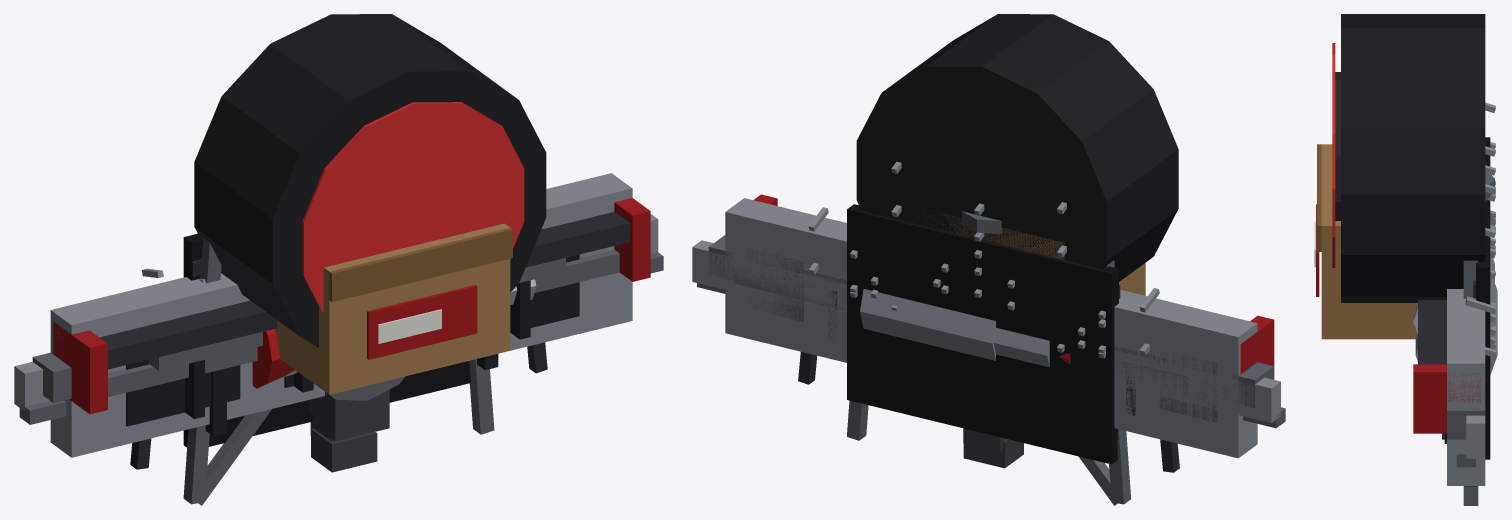
The model's file is wall_items.glb.
3 views of the same model, side by side, from view 1: azimuth 30°, elevation 25°; view 2: azimuth 150°, elevation 25°; view 3: azimuth 270°, elevation 25° (orthographic). The views are drawn at different scales.
Visible parts, largest first — view 1: dragradial, bushings, body_bumper_F_sport, comforttire, body_spoiler_gt_wing, rollcage, body_bumper_F_lip, lightweight, turbokit, body_skirt_skirt, body_bumper_R_diffuser, body_spoiler_roof_ext (+3 smaller); view 2: comforttire, lightweight, body_bumper_F_sport, dragradial, body_skirt_skirt, catback, strutbar, rollcage, body_bumper_F_lip, bushings, coilover, body_spoiler_gt_wing (+4 smaller); view 3: comforttire, dragradial, bushings, body_bumper_F_sport, body_spoiler_gt_wing, lightweight, body_skirt_skirt, body_bumper_F_lip, rollcage, catback, coilover.
Boxes of the visible parts, x1=… form: dragradial: x1=221, y1=14, x2=546, y2=347; bushings: x1=274, y1=223, x2=512, y2=394; body_bumper_F_sport: x1=50, y1=173, x2=632, y2=457; comforttire: x1=194, y1=14, x2=496, y2=294; body_spoiler_gt_wing: x1=53, y1=198, x2=650, y2=436; rollcage: x1=183, y1=237, x2=494, y2=505; body_bumper_F_lip: x1=32, y1=249, x2=619, y2=402; lightweight: x1=183, y1=233, x2=470, y2=447; turbokit: x1=314, y1=376, x2=405, y2=441; body_skirt_skirt: x1=14, y1=214, x2=663, y2=424; body_bumper_R_diffuser: x1=185, y1=280, x2=530, y2=418; body_spoiler_roof_ext: x1=149, y1=258, x2=565, y2=370; comforttire: x1=856, y1=28, x2=1159, y2=269; lightweight: x1=847, y1=204, x2=1120, y2=464; body_bumper_F_sport: x1=725, y1=198, x2=1257, y2=458; dragradial: x1=856, y1=14, x2=1178, y2=281; body_skirt_skirt: x1=692, y1=240, x2=1285, y2=428; catback: x1=860, y1=279, x2=1105, y2=360; strutbar: x1=746, y1=248, x2=1217, y2=422; rollcage: x1=847, y1=161, x2=1130, y2=505; body_bumper_F_lip: x1=708, y1=235, x2=1273, y2=408; bushings: x1=922, y1=214, x2=1145, y2=295; coilover: x1=962, y1=203, x2=1023, y2=468; body_spoiler_gt_wing: x1=753, y1=194, x2=1274, y2=379; comforttire: x1=1379, y1=14, x2=1485, y2=302; dragradial: x1=1332, y1=14, x2=1485, y2=302; bushings: x1=1314, y1=144, x2=1417, y2=339; body_bumper_F_sport: x1=1444, y1=142, x2=1495, y2=485; body_spoiler_gt_wing: x1=1413, y1=181, x2=1495, y2=433; lightweight: x1=1473, y1=137, x2=1495, y2=459; body_skirt_skirt: x1=1456, y1=347, x2=1495, y2=467; body_bumper_F_lip: x1=1447, y1=216, x2=1495, y2=439; rollcage: x1=1463, y1=102, x2=1495, y2=505; catback: x1=1415, y1=190, x2=1497, y2=374; coilover: x1=1442, y1=165, x2=1495, y2=439.
Size of the model in its own units: 1.4 by 0.9488 by 0.38.
Materials: 1 (1 with a texture image).
